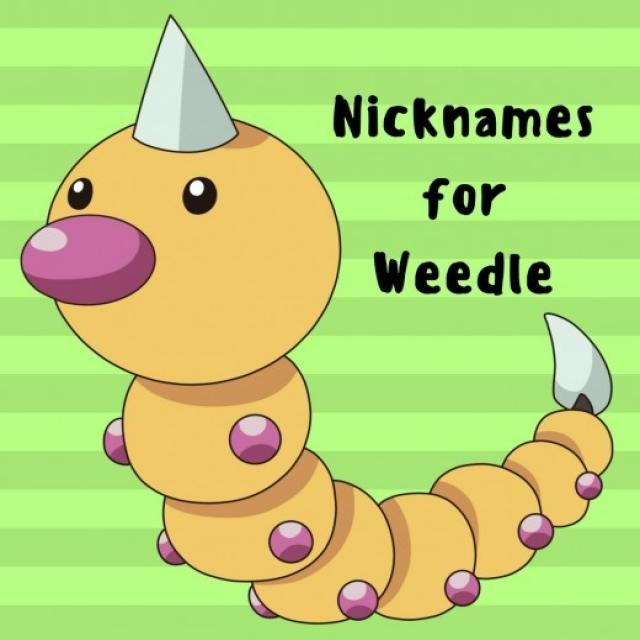Weedle: (23, 33, 334, 623)
